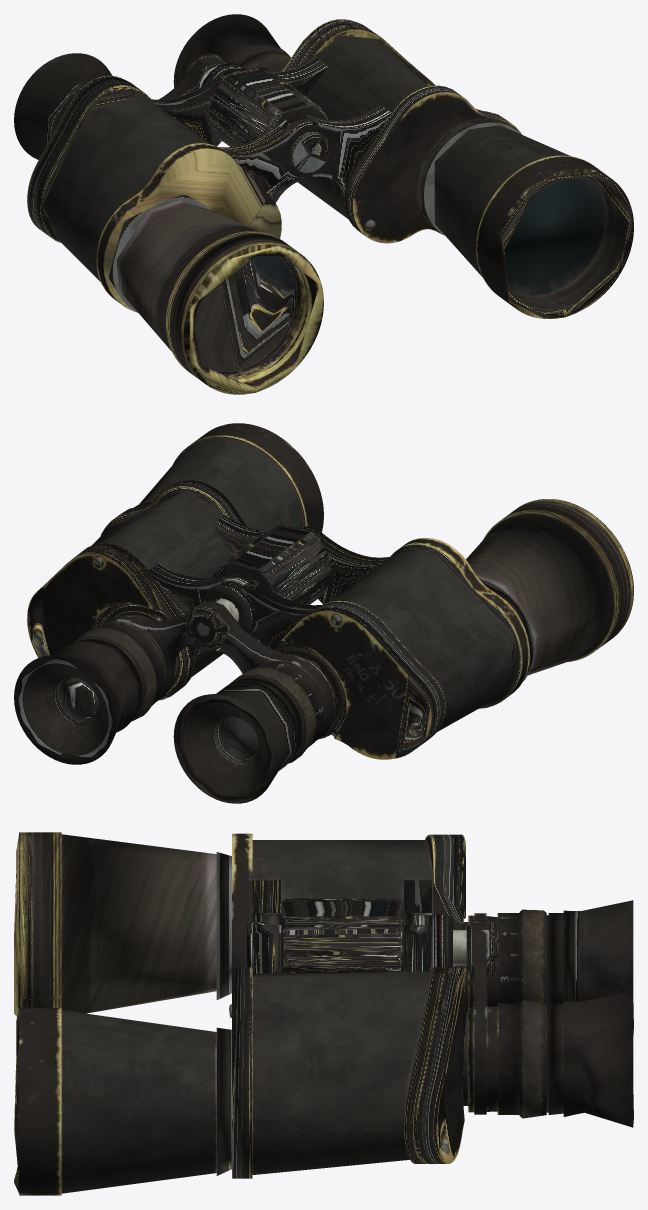
Rendered from vintage_binocular.glb.
The picture shows the model from 3 angles, top to bottom: view 1: azimuth 30°, elevation 25°; view 2: azimuth 150°, elevation 25°; view 3: azimuth 270°, elevation 25°; orthographic projection. The views are drawn at different scales.
Parts seen in each view (by area): view 1: vintage_binocular_right_prism, vintage_binocular_left_prism, vintage_binocular_right_lens, vintage_binocular_focus, vintage_binocular_left_lens, vintage_binocular_middle; view 2: vintage_binocular_right_prism, vintage_binocular_left_prism, vintage_binocular_left_lens, vintage_binocular_right_lens, vintage_binocular_focus, vintage_binocular_diopter, vintage_binocular_eye_relief, vintage_binocular_middle; view 3: vintage_binocular_left_prism, vintage_binocular_right_prism, vintage_binocular_left_lens, vintage_binocular_right_lens, vintage_binocular_focus, vintage_binocular_diopter, vintage_binocular_middle, vintage_binocular_eye_relief.
Boxes of the visible parts, x1,y1,x2,y2 form: vintage_binocular_right_prism: [27, 73, 323, 394]; vintage_binocular_left_prism: [222, 19, 633, 318]; vintage_binocular_right_lens: [14, 53, 225, 159]; vintage_binocular_focus: [209, 67, 327, 146]; vintage_binocular_left_lens: [173, 14, 291, 87]; vintage_binocular_middle: [201, 63, 329, 172]; vintage_binocular_right_prism: [228, 499, 633, 759]; vintage_binocular_left_prism: [27, 423, 323, 700]; vintage_binocular_left_lens: [14, 600, 216, 764]; vintage_binocular_right_lens: [173, 601, 336, 803]; vintage_binocular_focus: [212, 525, 330, 604]; vintage_binocular_diopter: [229, 661, 324, 763]; vintage_binocular_eye_relief: [185, 598, 238, 650]; vintage_binocular_middle: [200, 582, 255, 632]; vintage_binocular_left_prism: [14, 915, 465, 1195]; vintage_binocular_right_prism: [14, 832, 465, 1017]; vintage_binocular_left_lens: [463, 922, 633, 1127]; vintage_binocular_right_lens: [455, 900, 633, 1034]; vintage_binocular_focus: [281, 898, 403, 973]; vintage_binocular_diopter: [497, 909, 546, 1003]; vintage_binocular_middle: [246, 914, 452, 969]; vintage_binocular_eye_relief: [453, 919, 497, 975].
Size of the model in its own units: 0.194 by 0.0684 by 0.1992.
1 material, 1 textured.
